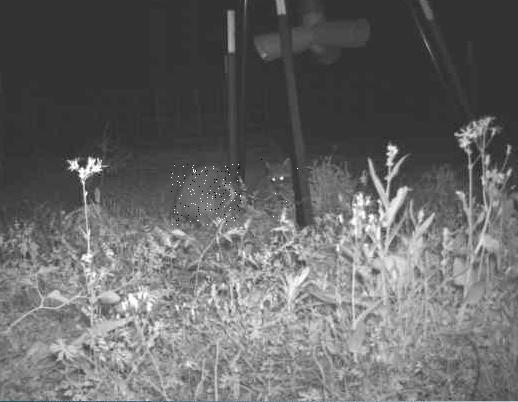Raccoon: (171, 165, 241, 226), (256, 157, 298, 218)
